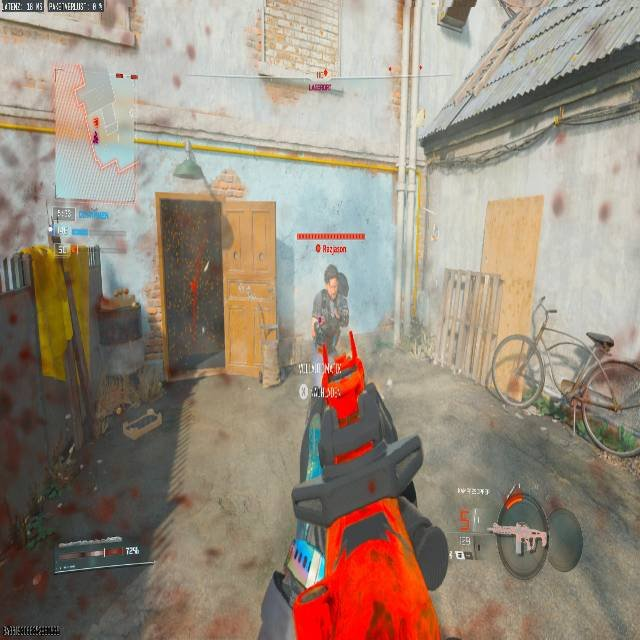head: (324, 264, 339, 294), (324, 261, 339, 278)
player: (311, 264, 349, 380), (318, 263, 349, 323)
